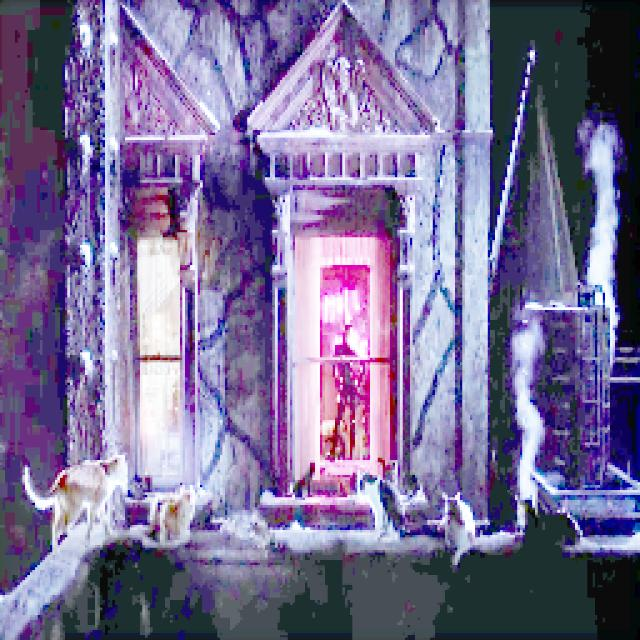cat: (27, 454, 132, 556), (350, 462, 415, 544), (137, 484, 199, 551), (434, 485, 480, 567)
